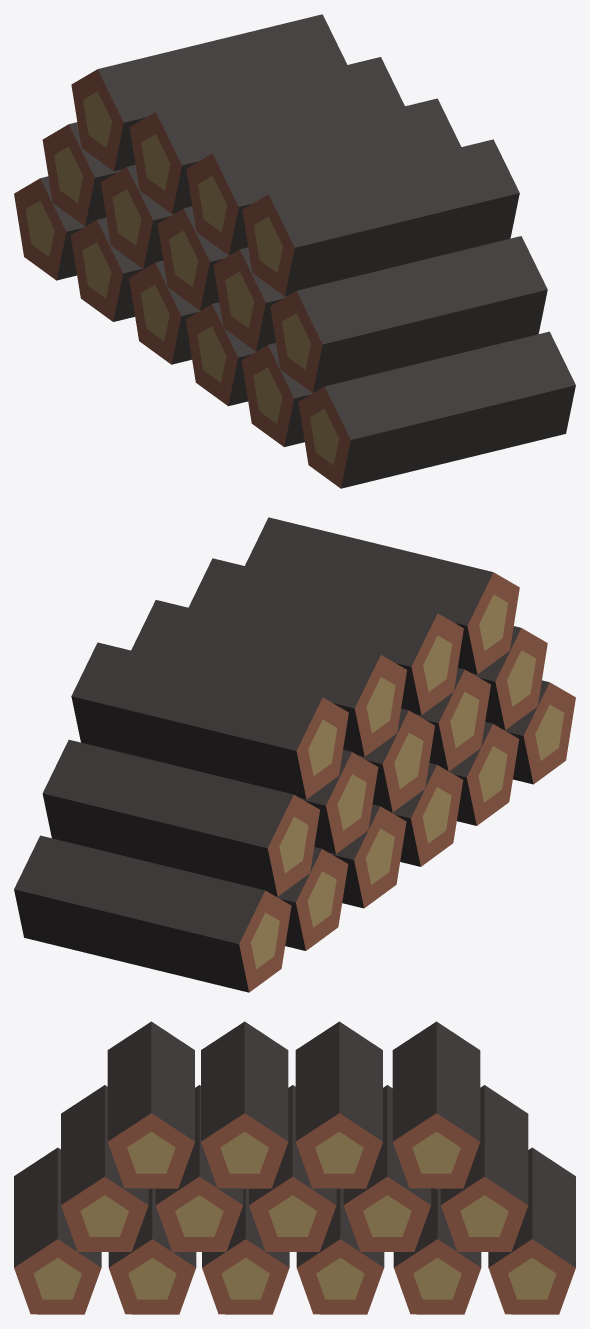
Rendered from TB_Prop_LumberPile_Big_C.FBX.
The picture shows the model from 3 angles, top to bottom: view 1: azimuth 30°, elevation 25°; view 2: azimuth 150°, elevation 25°; view 3: azimuth 270°, elevation 25°; orthographic projection. The views are drawn at different scales.
Parts seen in each view (by area): view 1: TB_Prop_LumberPile_Big_C; view 2: TB_Prop_LumberPile_Big_C; view 3: TB_Prop_LumberPile_Big_C.
Part boxes in pixels (x1,y1,x2,y2): TB_Prop_LumberPile_Big_C: (14,14,575,488); TB_Prop_LumberPile_Big_C: (14,517,575,992); TB_Prop_LumberPile_Big_C: (14,1021,575,1314).
Bounding box in the file's own units: 1.65 × 1.7 × 4.29.
